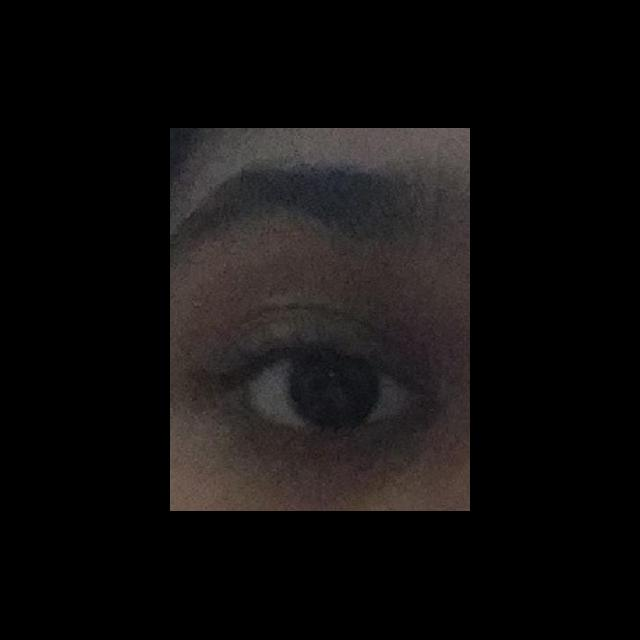eye: (249, 354, 412, 431)
iris: (288, 357, 378, 426)
